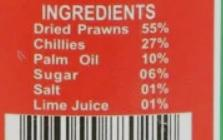ingredients: (33, 2, 184, 118)
